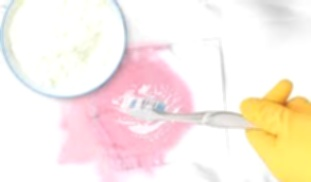wine: (62, 109, 171, 169), (127, 50, 195, 97), (162, 125, 197, 146), (100, 89, 119, 111), (184, 94, 191, 104)
